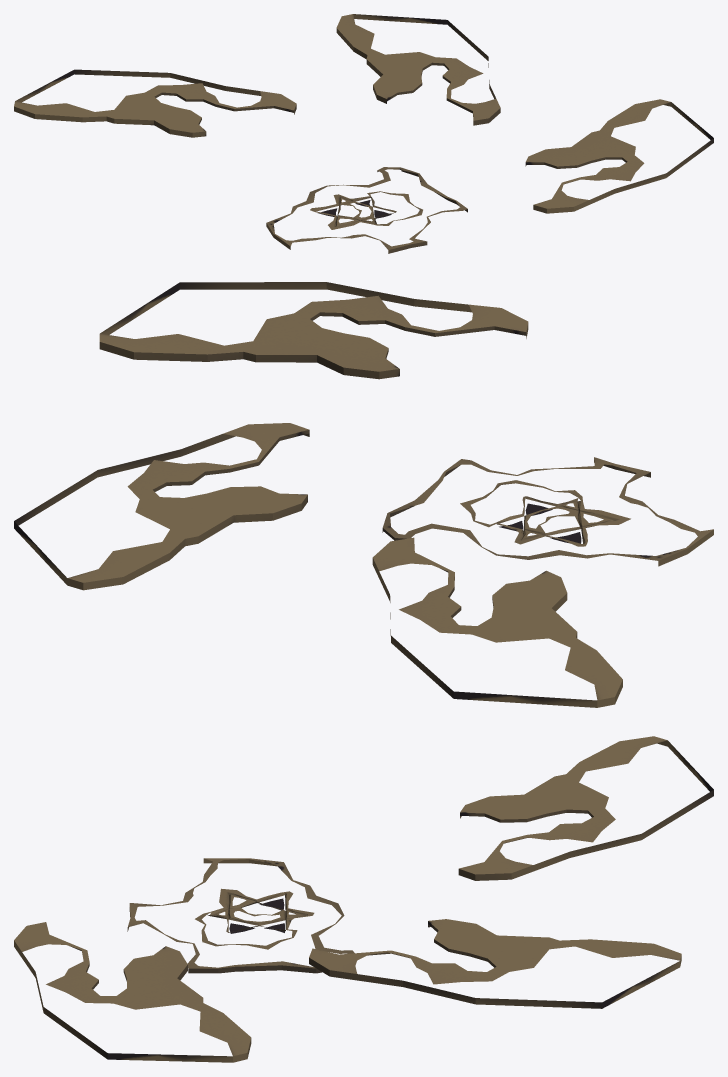
File: Ground_01.FBX
3 views of the same model, one above another, from view 1: azimuth 30°, elevation 25°; view 2: azimuth 150°, elevation 25°; view 3: azimuth 270°, elevation 25° (orthographic). The views are drawn at different scales.
Parts seen in each view (by area): view 1: Ground_01; view 2: Ground_01; view 3: Ground_01.
Boxes of the visible parts, box(x1,y1,x2,y2) form: Ground_01: box(14, 14, 713, 253); Ground_01: box(14, 282, 713, 707); Ground_01: box(14, 736, 713, 1062).
Bounding box in the file's own units: 55.19 × 4.73 × 51.01.
